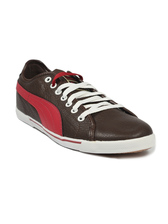shoes: (14, 57, 160, 160)
